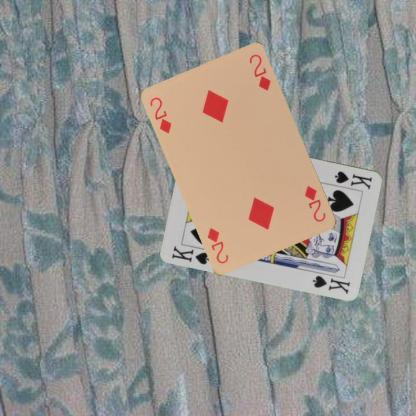2d: (302, 182, 328, 224), (148, 94, 174, 135)
Ks: (332, 168, 374, 191), (170, 243, 211, 266)
